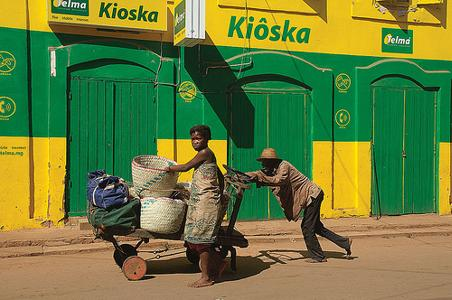person: (225, 147, 355, 265)
